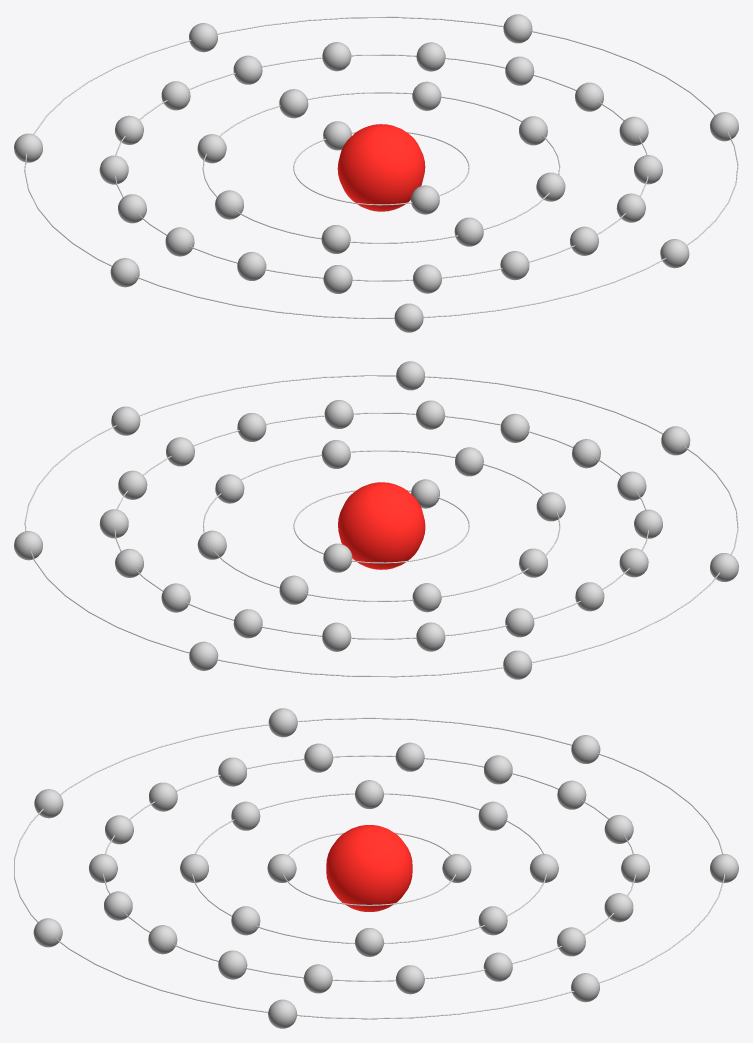
File: Group 7 - Bromine Br.glb
The picture shows the model from 3 angles, top to bottom: view 1: azimuth 30°, elevation 25°; view 2: azimuth 150°, elevation 25°; view 3: azimuth 270°, elevation 25°; orthographic projection.
Visible parts, largest first — view 1: Nucleus, ring4, ring3, ring2, Electron9, Electron1, Electron11, Electron43, Electron44, Electron48, Electron50, Electron6 (+28 smaller); view 2: Nucleus, ring4, ring3, ring2, Electron14, Electron17, Electron7, Electron4, Electron5, Electron10, Electron15, Electron16 (+28 smaller); view 3: Nucleus, ring4, ring3, ring2, Electron16, Electron17, Electron51, Electron12, Electron13, Electron48, Electron49, Electron25 (+28 smaller).
Part boxes in pixels (x1,y1,x2,y2): Nucleus: (337,124,425,211); ring4: (24,16,738,318); ring3: (114,54,648,281); ring2: (202,92,560,243); Electron9: (410,185,439,214); Electron1: (412,81,441,110); Electron11: (454,217,483,246); Electron43: (161,81,190,110); Electron44: (322,42,351,71); Electron48: (505,56,534,85); Electron50: (413,264,441,293); Electron6: (233,55,262,84); Nucleus: (338,482,425,569); ring4: (24,375,738,677); ring3: (114,412,649,639); ring2: (203,450,560,601); Electron14: (416,622,445,651); Electron17: (575,582,604,611); Electron7: (215,474,244,503); Electron4: (323,543,352,572); Electron5: (412,583,441,612); Electron10: (279,575,308,604); Electron15: (416,400,445,429); Electron16: (166,437,194,466); Nucleus: (326,825,412,911); ring4: (14,717,724,1019); ring3: (102,755,636,981); ring2: (192,793,546,943); Electron16: (303,964,332,993); Electron17: (395,742,424,771); Electron51: (218,950,247,979); Electron12: (557,927,585,956); Electron13: (218,757,246,786); Electron48: (483,952,512,981); Electron49: (304,743,333,772); Electron25: (268,708,297,737).
Bounding box in the file's own units: 0.2466 × 0.03 × 0.2487.
